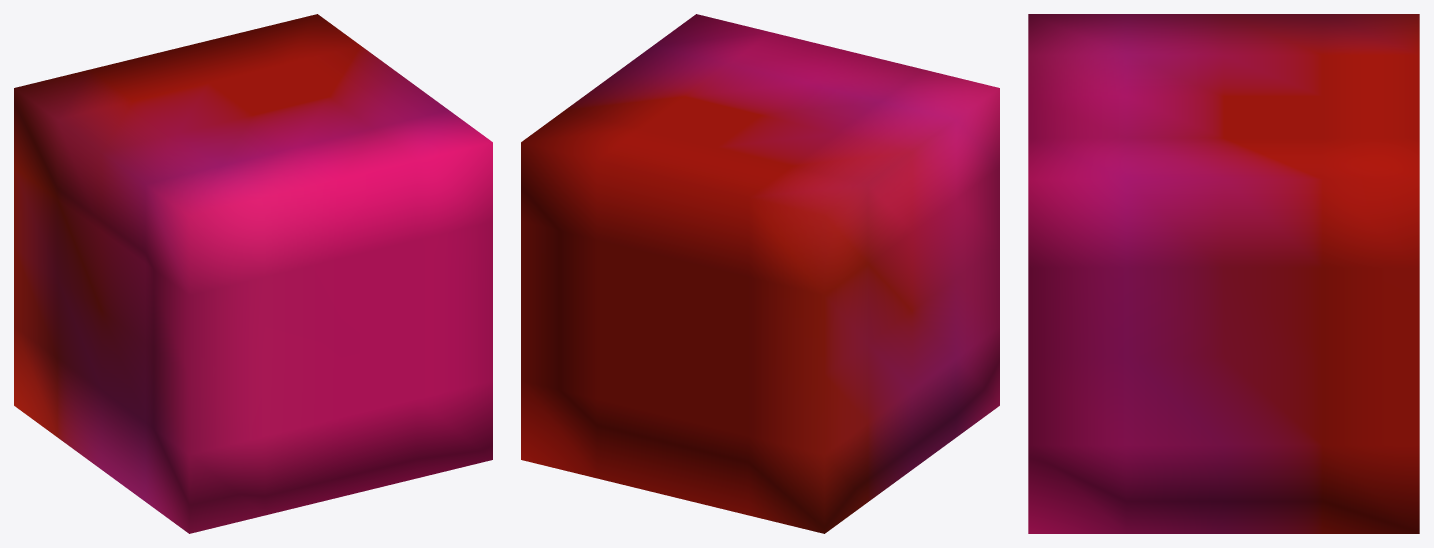
File: bruh2.glb
3 views of the same model, side by side, from view 1: azimuth 30°, elevation 25°; view 2: azimuth 150°, elevation 25°; view 3: azimuth 270°, elevation 25° (orthographic). The views are drawn at different scales.
Visible parts, largest first — view 1: Cube; view 2: Cube; view 3: Cube.
Boxes of the visible parts, x1,y1,x2,y2 form: Cube: [14, 14, 492, 533]; Cube: [521, 14, 999, 533]; Cube: [1028, 14, 1419, 533].
Bounding box in the file's own units: 2 × 2 × 2.
